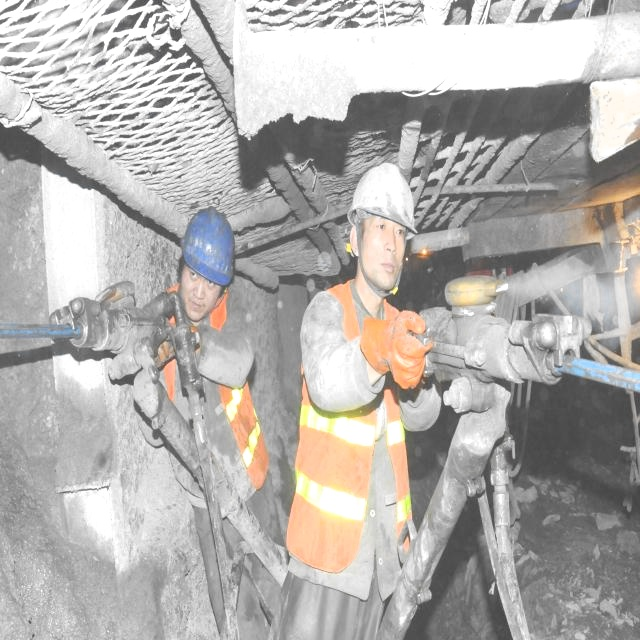Con_Chaleco: (288, 283, 416, 561)
